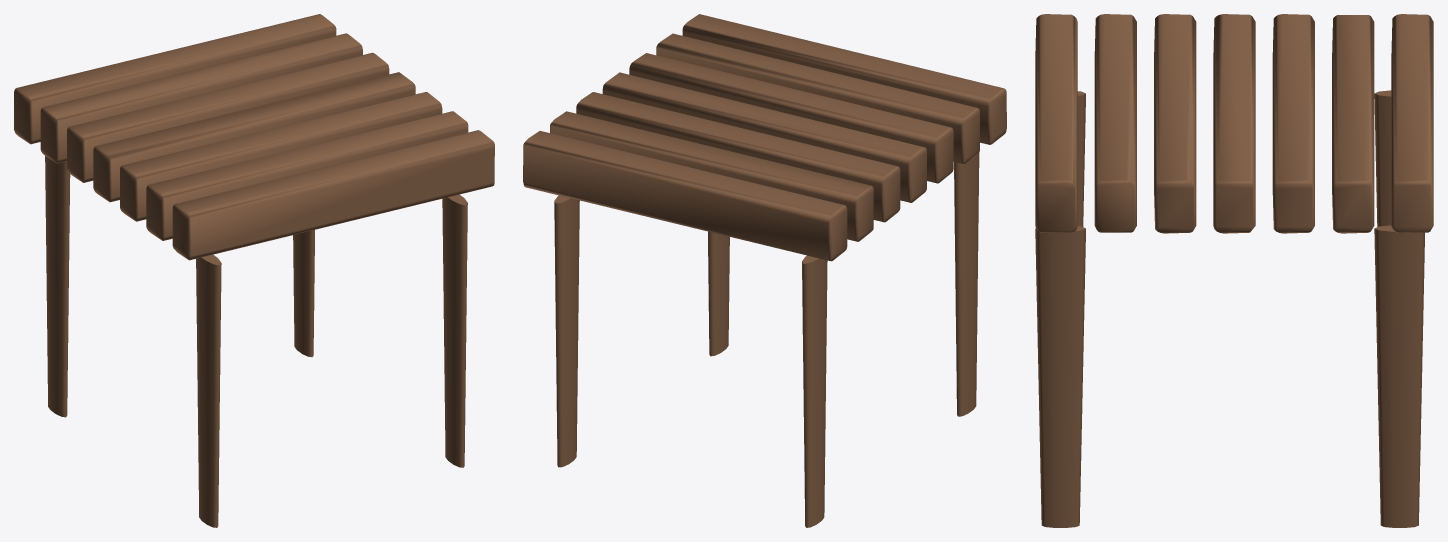
File: entry-bench.lod.glb
The picture shows the model from 3 angles, left to right: view 1: azimuth 30°, elevation 25°; view 2: azimuth 150°, elevation 25°; view 3: azimuth 270°, elevation 25°; orthographic projection. The views are drawn at different scales.
Visible parts, largest first — view 1: part; view 2: part; view 3: part.
Part boxes in pixels (x1,y1,x2,y2): part: (14,14,494,527); part: (523,14,1006,527); part: (1035,14,1433,527).
Size of the model in its own units: 1 by 1 by 1.
